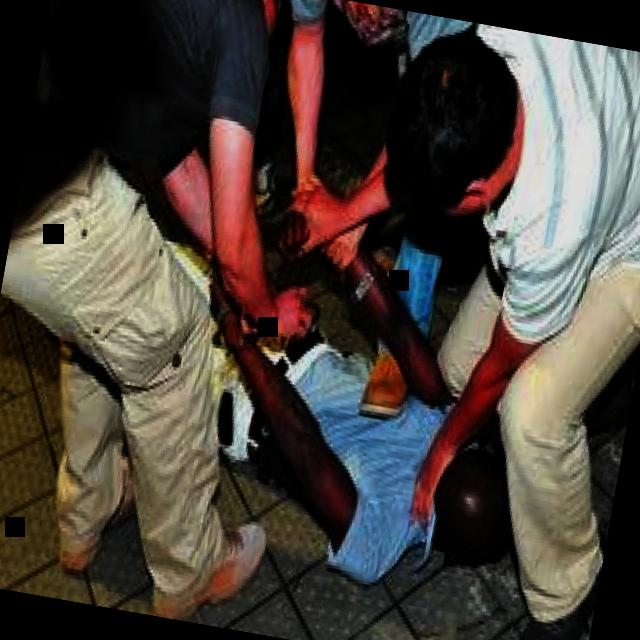Fall-Detected: (176, 179, 579, 640)
